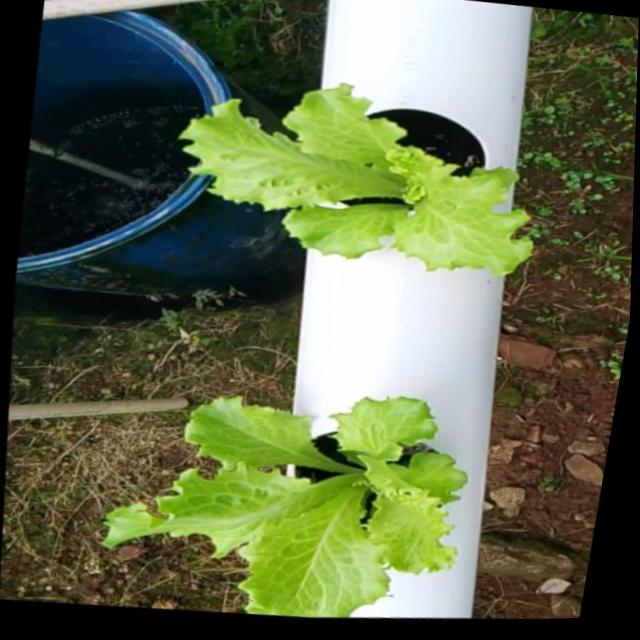Baby: (97, 379, 460, 612), (164, 57, 525, 251)
